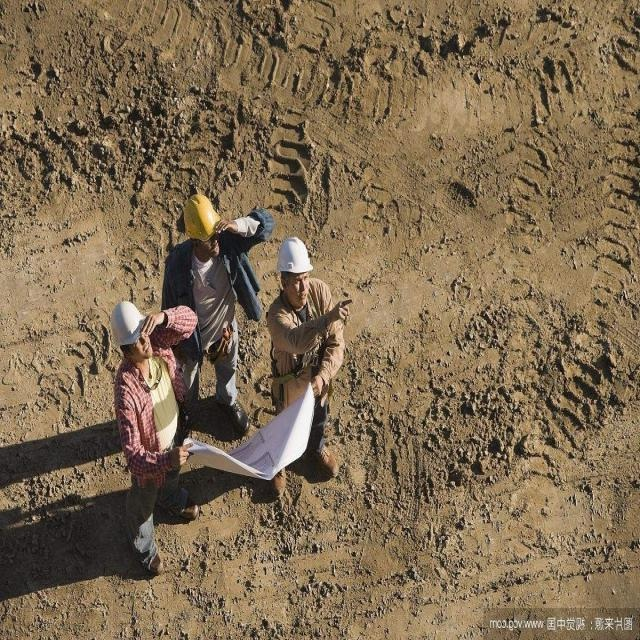Con_Casco: (279, 237, 312, 298)
